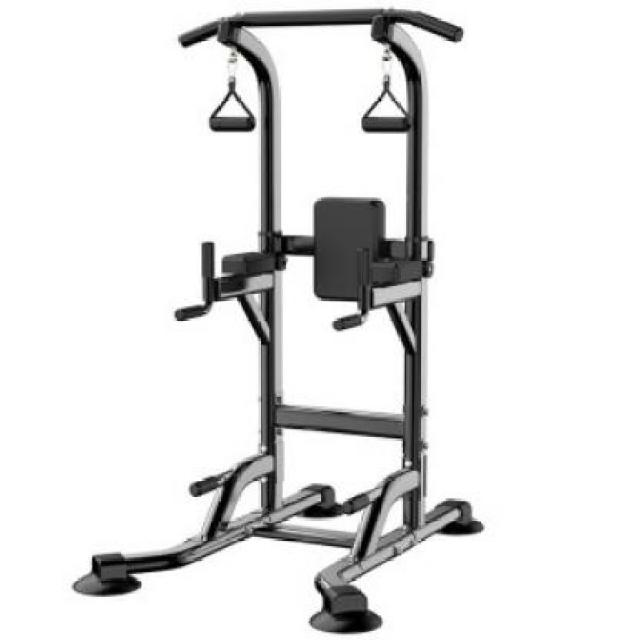chinning dipping: (69, 9, 483, 636)
